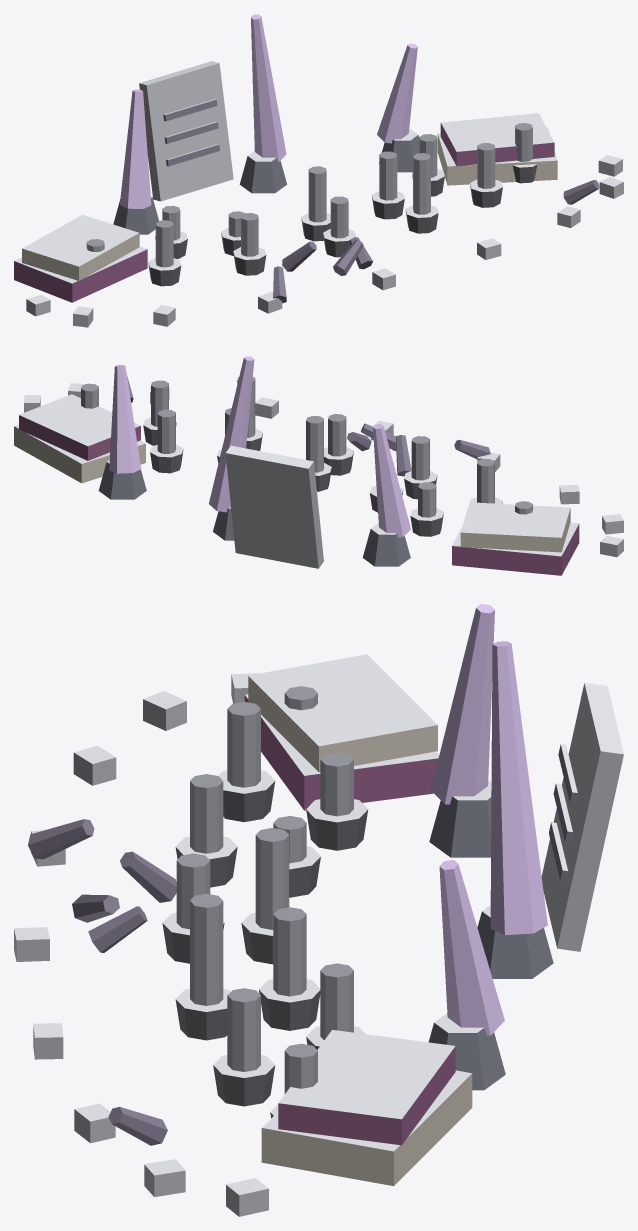
The model's file is PR_Oferendas_A.fbx.
The picture shows the model from 3 angles, top to bottom: view 1: azimuth 30°, elevation 25°; view 2: azimuth 150°, elevation 25°; view 3: azimuth 270°, elevation 25°; orthographic projection. The views are drawn at different scales.
Parts seen in each view (by area): view 1: PR_Oferendas_A; view 2: PR_Oferendas_A; view 3: PR_Oferendas_A.
Part boxes in pixels (box(x1,y1,x2,y2)): PR_Oferendas_A: box(14, 14, 623, 327); PR_Oferendas_A: box(14, 356, 623, 575); PR_Oferendas_A: box(14, 604, 623, 1216).
Bounding box in the file's own units: 2.58 × 0.7299 × 1.27.
